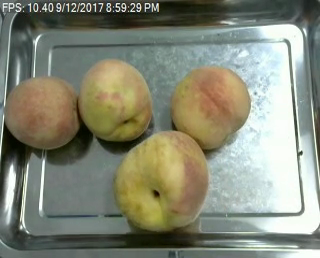Peach: (112, 129, 209, 232), (170, 66, 250, 150), (78, 58, 153, 142), (4, 74, 80, 150)
